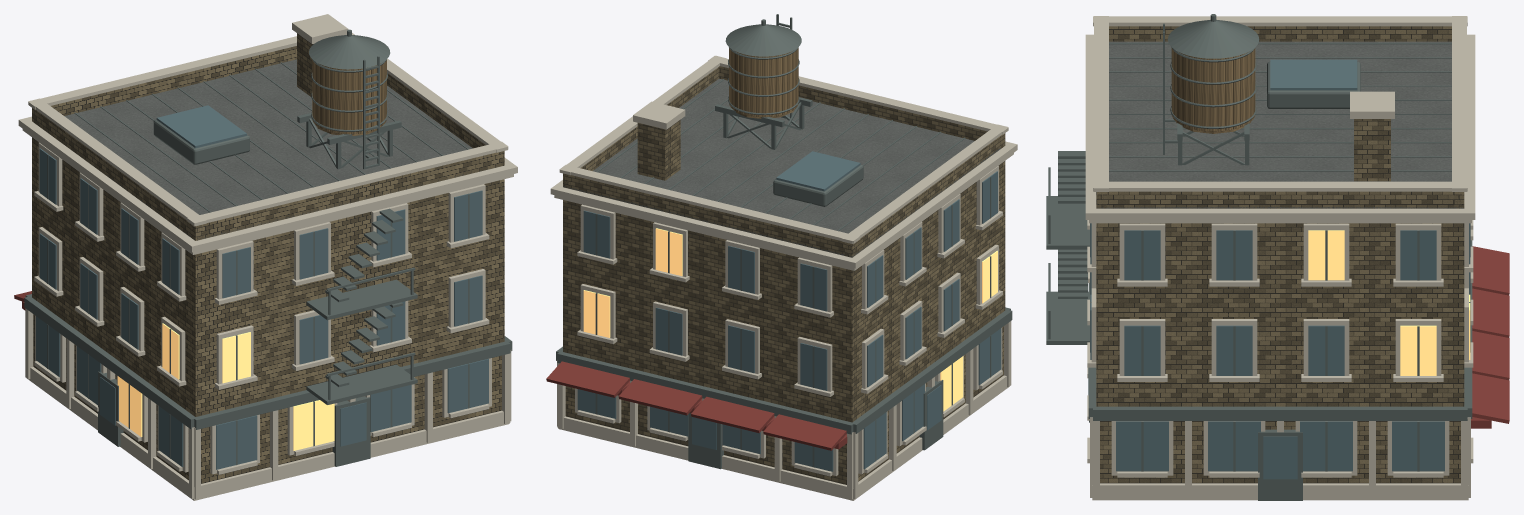
Rendered from shop.glb.
3 views of the same model, side by side, from view 1: azimuth 30°, elevation 25°; view 2: azimuth 150°, elevation 25°; view 3: azimuth 270°, elevation 25° (orthographic). The views are drawn at different scales.
Parts seen in each view (by area): view 1: masonry, foundation, roof tar seam, window pane, roof, window pane.001, tank floor; view 2: masonry, foundation, roof, window pane, roof tar seam, canvas awning, tank floor, window pane.001; view 3: masonry, foundation, roof, roof tar seam, window pane, canvas awning, tank floor, window pane.001.
Boxes of the visible parts, left/top/right/bottom form: masonry: left=32, top=33, right=504, bottom=483; foundation: left=18, top=14, right=517, bottom=500; roof tar seam: left=24, top=29, right=512, bottom=466; window pane: left=36, top=105, right=488, bottom=469; roof: left=38, top=59, right=497, bottom=239; window pane.001: left=117, top=323, right=334, bottom=450; tank floor: left=312, top=60, right=386, bottom=135; masonry: left=563, top=66, right=1005, bottom=484; foundation: left=550, top=55, right=1017, bottom=500; roof: left=563, top=78, right=1005, bottom=257; window pane: left=577, top=151, right=1001, bottom=471; roof tar seam: left=556, top=14, right=1012, bottom=469; canvas awning: left=546, top=361, right=847, bottom=450; tank floor: left=729, top=48, right=798, bottom=118; window pane.001: left=583, top=228, right=997, bottom=411; masonry: left=1096, top=26, right=1464, bottom=483; foundation: left=1085, top=16, right=1475, bottom=500; roof: left=1097, top=41, right=1463, bottom=208; roof tar seam: left=1046, top=14, right=1472, bottom=500; window pane: left=1088, top=59, right=1470, bottom=479; canvas awning: left=1471, top=246, right=1509, bottom=428; tank floor: left=1171, top=48, right=1255, bottom=133; window pane.001: left=1308, top=230, right=1470, bottom=375.
Size of the model in its own units: 12.65 by 14.08 by 13.85.
8 materials, 3 textured.
